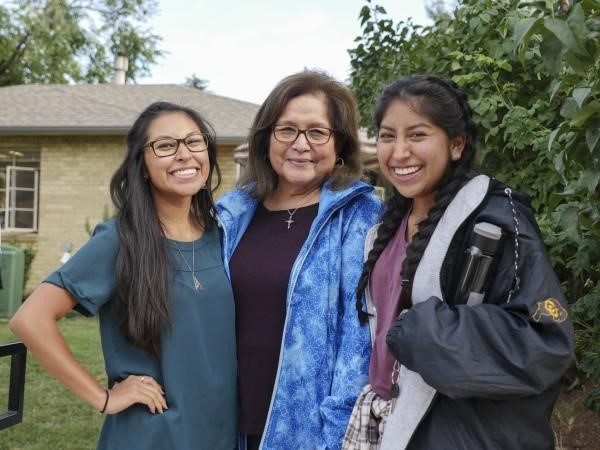face_no_mask: (375, 76, 473, 199), (267, 85, 338, 188), (141, 110, 212, 200)
